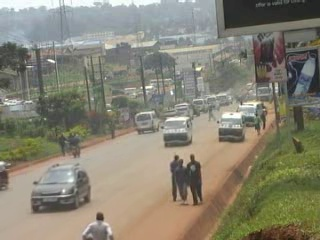Car: (30, 159, 91, 210), (160, 107, 183, 125)
Motorcycle: (0, 154, 12, 192), (68, 131, 83, 159)
